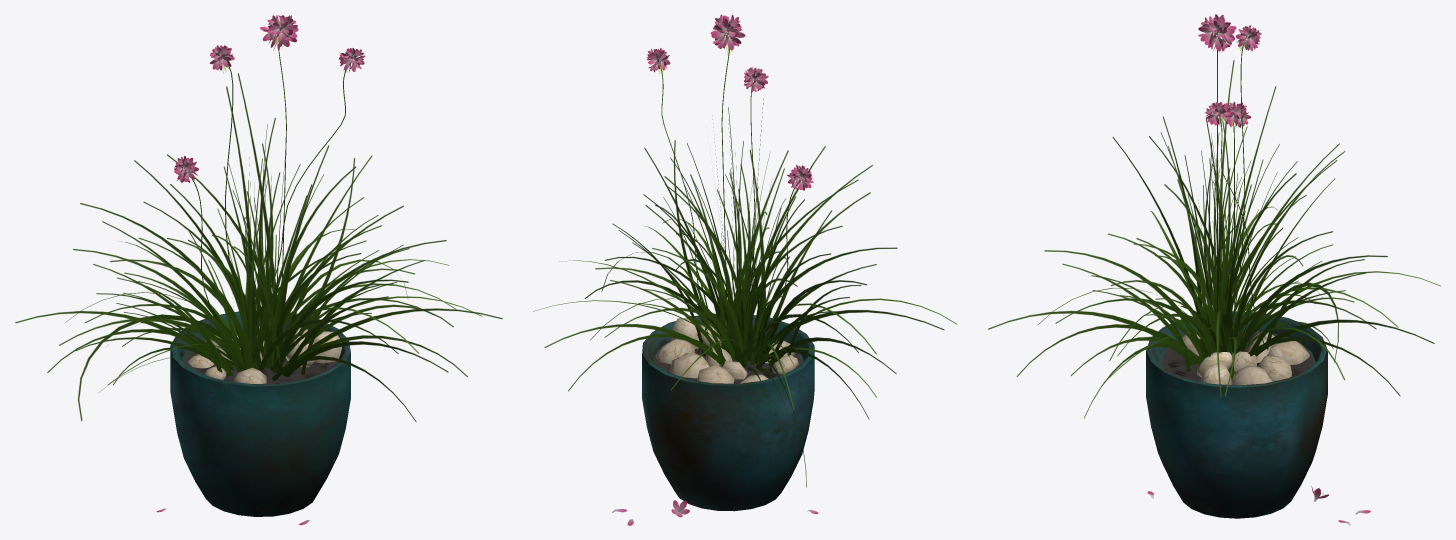
3 renders of one model, left to right at view 1: azimuth 30°, elevation 25°; view 2: azimuth 150°, elevation 25°; view 3: azimuth 270°, elevation 25°, orthographic. The views are drawn at different scales.
Visible parts, largest first — view 1: Grass_Grass_0, Pot, rocks-_Pot_0, Flowers_Flowers_0; view 2: Grass_Grass_0, Pot, rocks-_Pot_0, Flowers_Flowers_0; view 3: Grass_Grass_0, Pot, rocks-_Pot_0, Flowers_Flowers_0.
Boxes of the visible parts, x1,y1,x2,y2 form: Grass_Grass_0: [15, 73, 502, 422]; Pot: [170, 311, 350, 516]; rocks-_Pot_0: [187, 326, 341, 383]; Flowers_Flowers_0: [260, 15, 298, 52]; Grass_Grass_0: [533, 98, 957, 487]; Pot: [642, 313, 814, 511]; rocks-_Pot_0: [656, 318, 798, 383]; Flowers_Flowers_0: [710, 14, 745, 55]; Grass_Grass_0: [988, 60, 1440, 436]; Pot: [1146, 311, 1327, 518]; rocks-_Pot_0: [1182, 332, 1309, 385]; Flowers_Flowers_0: [1198, 14, 1236, 52].
Size of the model in its own units: 0.3664 by 0.4263 by 0.3613.
3 materials, 3 textured.
